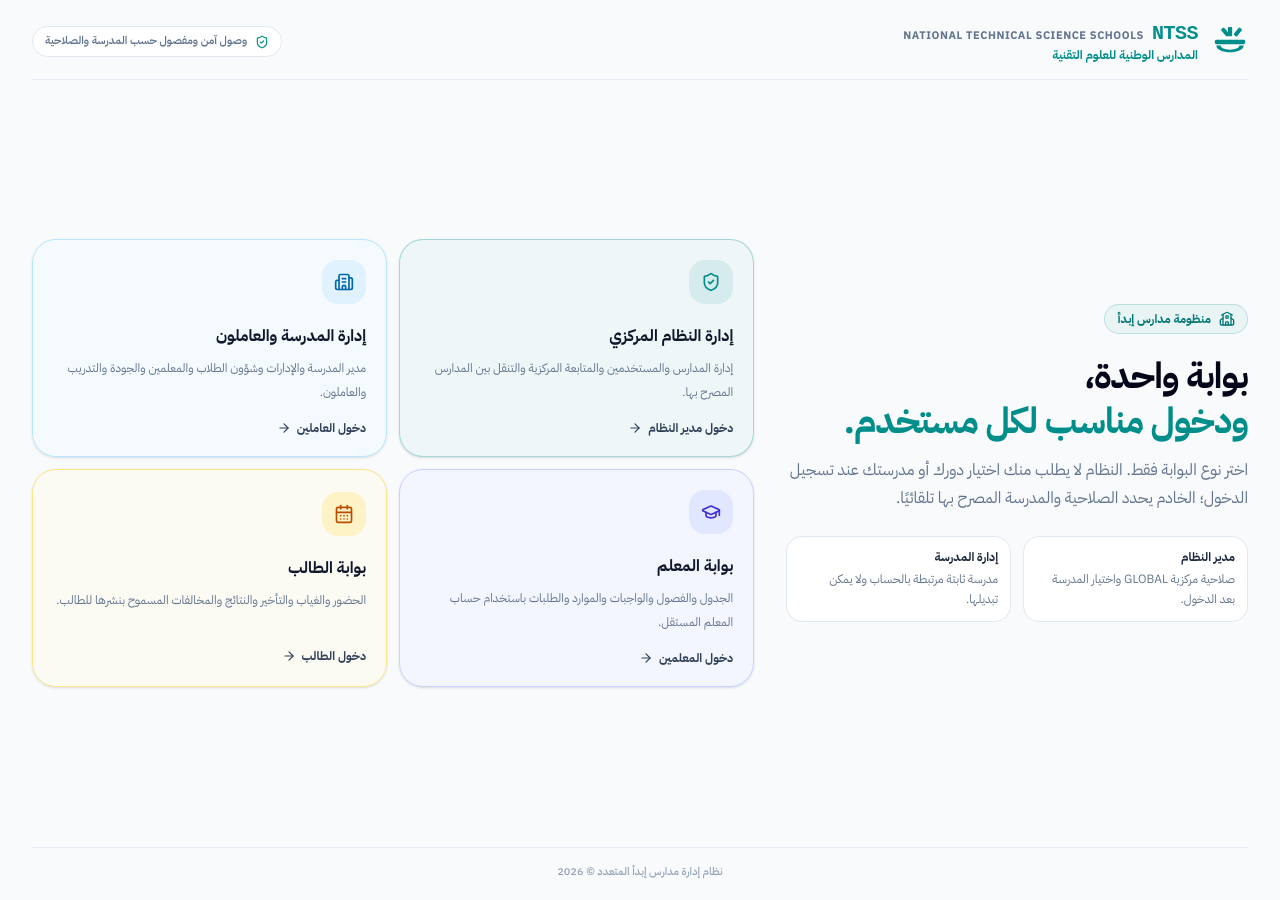
Test: PHASE 3C-A18 — Unified Multi-Portal Entry & School-Aware Public Schedule › system portal shows email/password without asking for school or role
The image size is (1280, 900).
What coordinates should you click on to do the following:
click the button with test id "entry-system"
I would click on:
 (711, 282)
Its box is 399,239 -> 754,457.
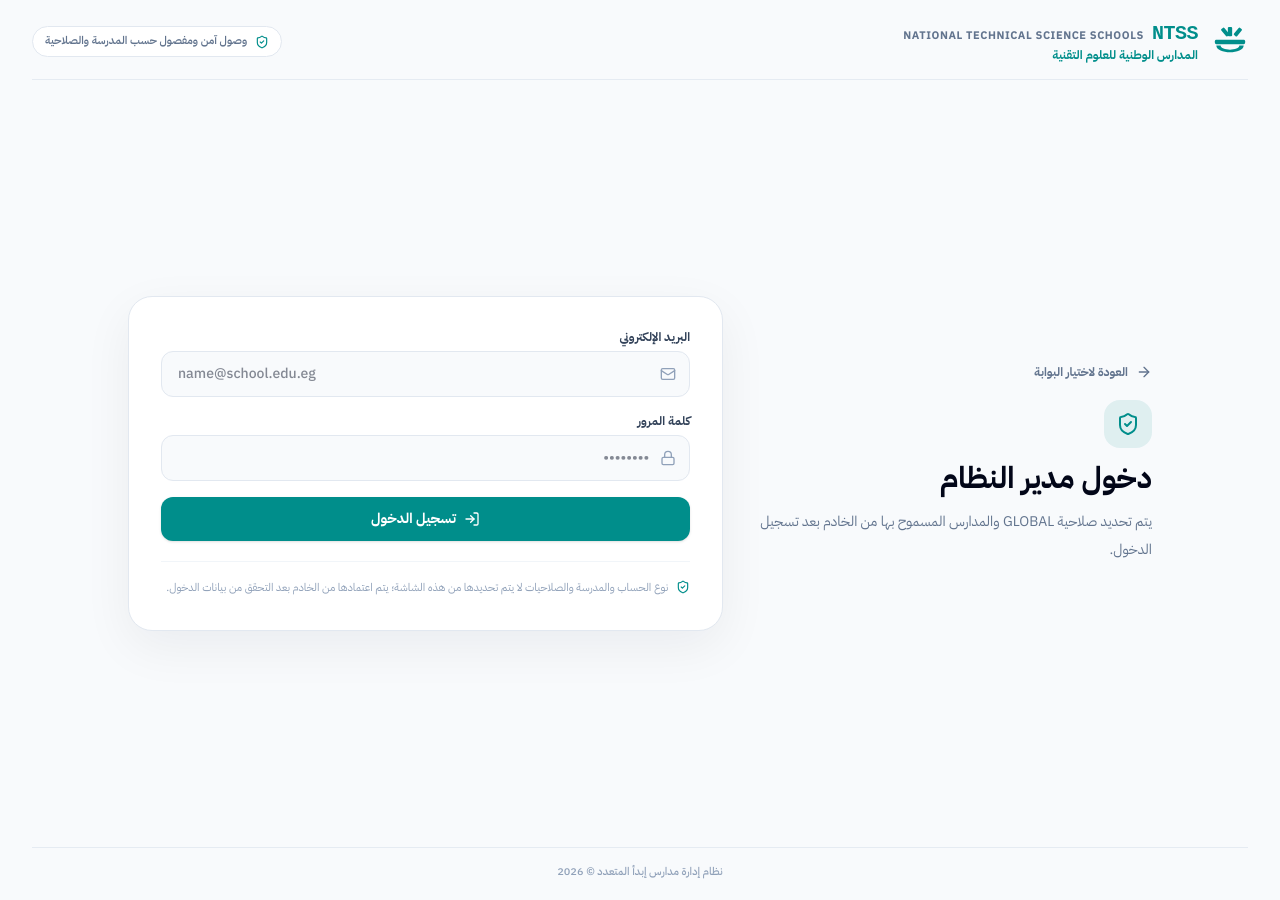
Result: the field with id "input-email" is shown at 161,351 -> 690,397
Result: the password field with id "input-password" is shown at 161,435 -> 690,481
